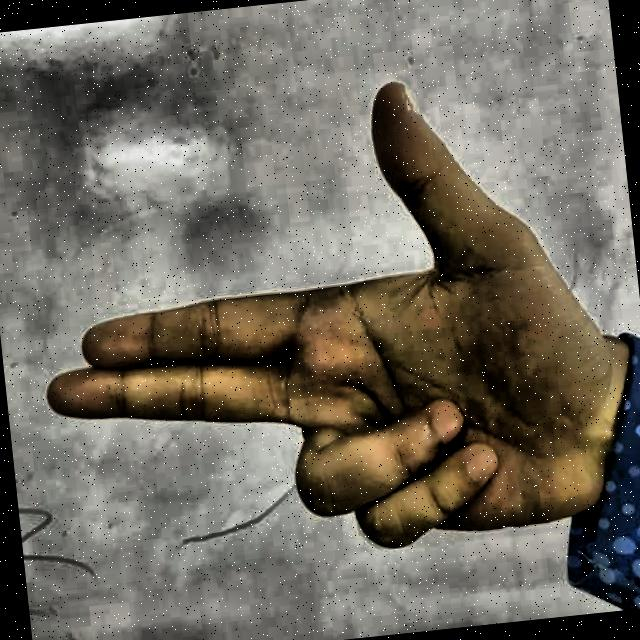Jha: (15, 35, 632, 638)
